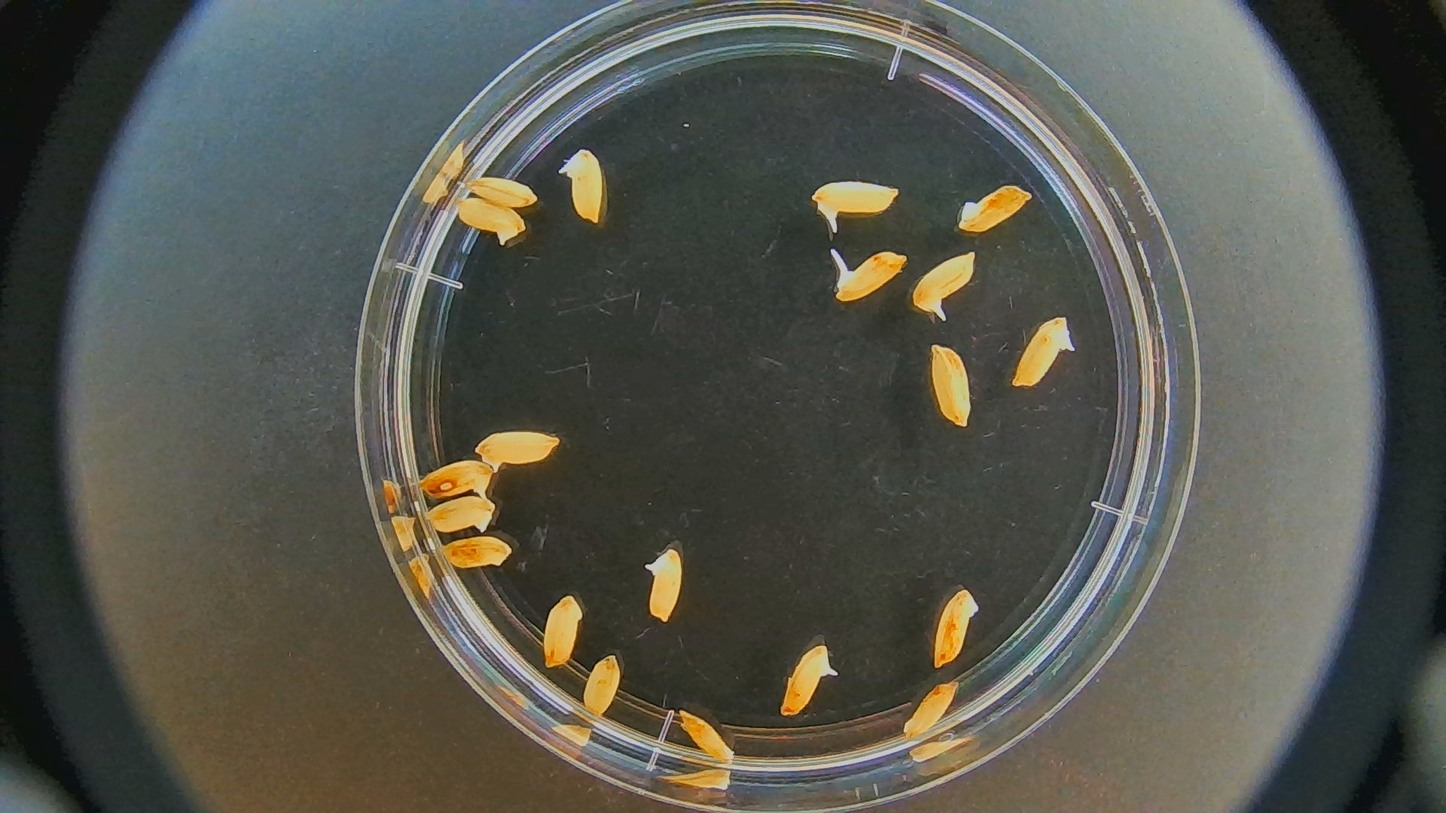no: (923, 340, 978, 430), (951, 182, 1037, 239), (934, 588, 981, 668), (452, 196, 526, 246), (480, 424, 557, 470), (418, 494, 497, 537), (538, 595, 584, 668), (678, 712, 737, 768), (458, 169, 540, 209), (901, 680, 956, 739), (438, 534, 517, 575), (646, 544, 685, 622), (563, 150, 604, 220), (587, 653, 621, 712)
yes: (1010, 313, 1073, 384), (407, 456, 498, 504), (832, 251, 910, 303), (781, 644, 834, 719), (911, 248, 972, 312), (813, 180, 898, 219)
